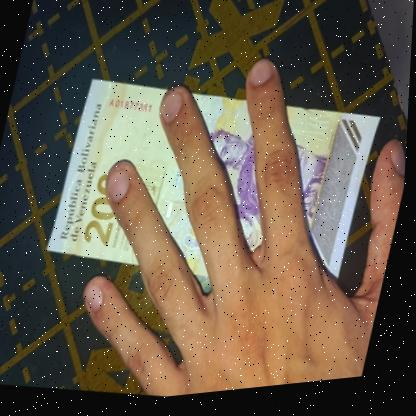two_hundred-front-vef: (43, 53, 389, 316)
